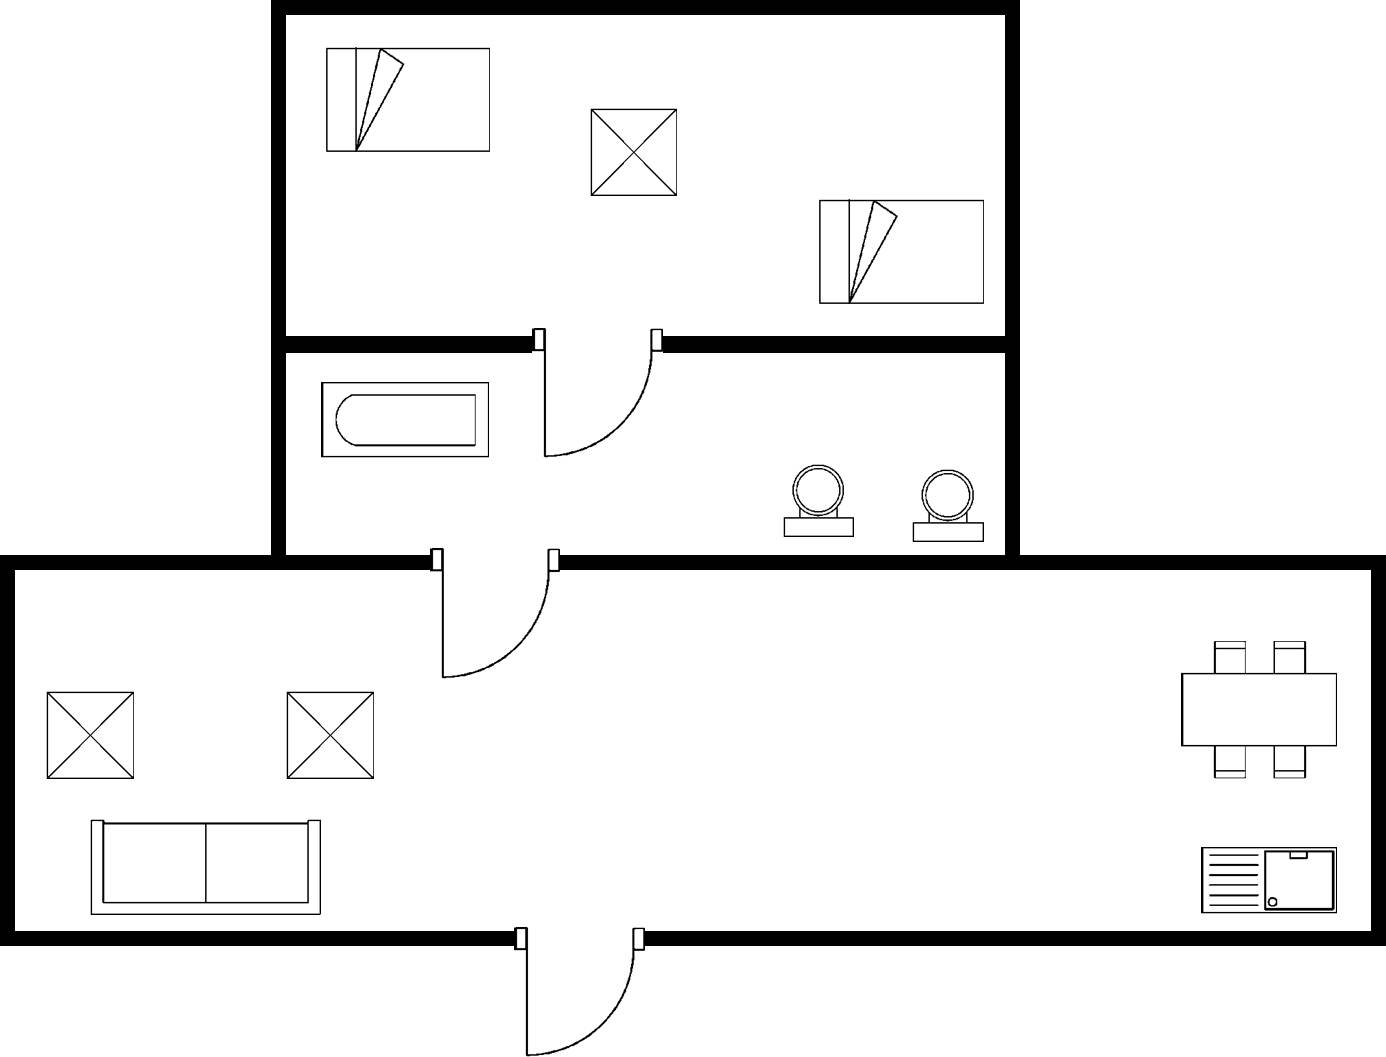bed: (319, 39, 497, 160), (808, 191, 990, 310)
coffee_table: (37, 683, 142, 786), (280, 685, 380, 786), (584, 102, 683, 202)
dining_table: (1170, 633, 1345, 786)
large_sink: (903, 458, 990, 548), (779, 453, 862, 544)
large_sofa: (82, 811, 329, 922)
sink: (1190, 837, 1344, 927)
tub: (316, 375, 499, 465)
